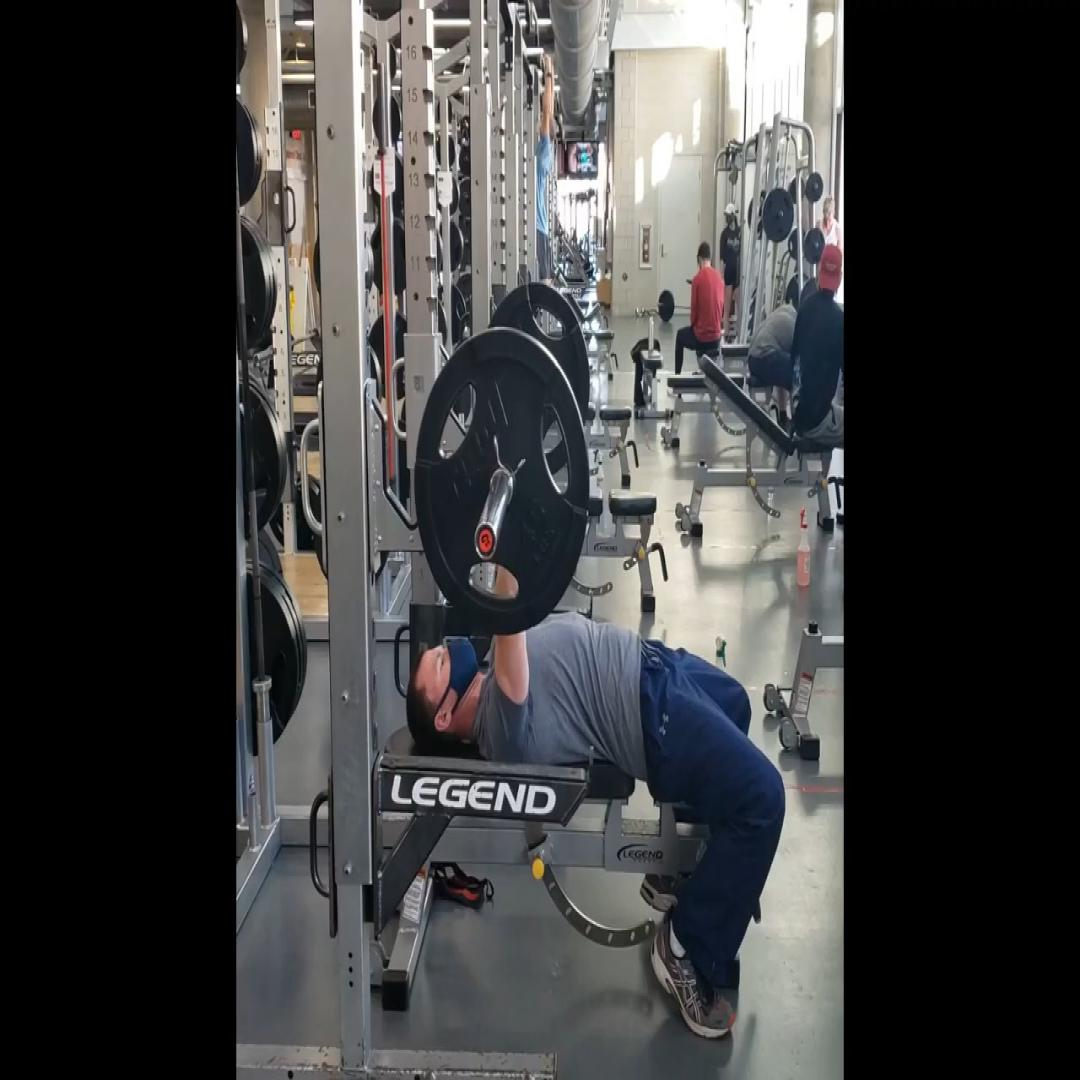Bar: (473, 519, 498, 561)
Barbell: (413, 324, 589, 636)
